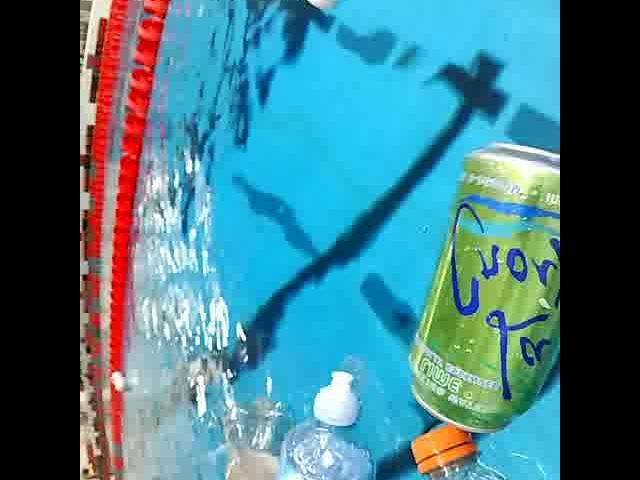Bottle: (263, 356, 383, 480), (405, 417, 555, 480), (220, 389, 284, 480)
Can: (404, 135, 560, 435)
